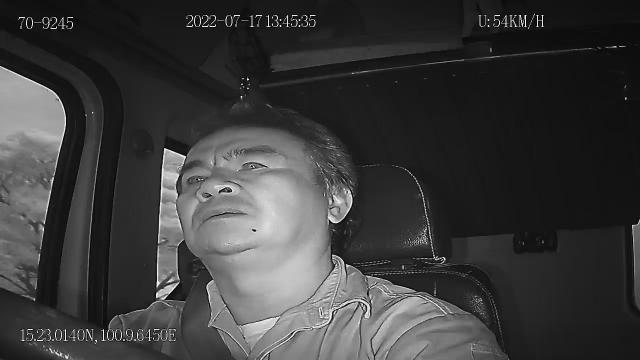SafeDriving: (230, 145, 278, 179)
Seatbelt: (178, 268, 238, 360)
